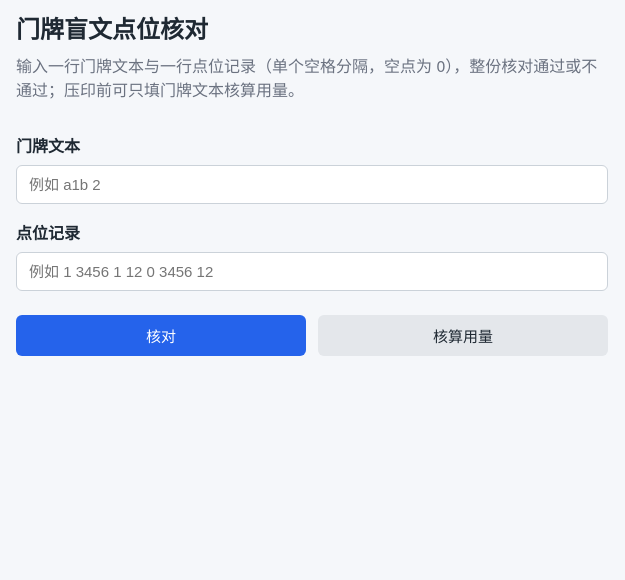
Test: App 核算用量 › 完成用量核算后仍可按原方式提交点位记录并得到通过或不通过
Type "a1b 2" into the field with test id "text-input" at (312, 184), box x1=16 y1=165 x2=608 y2=204
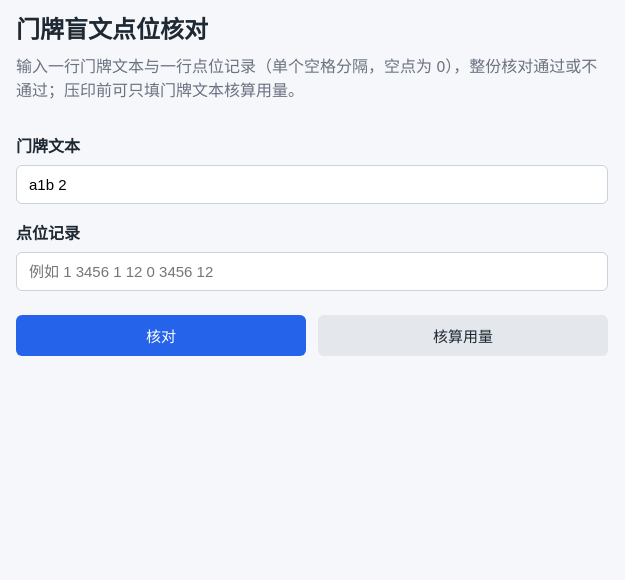
Click the button with test id "usage-submit" at (463, 336), box x1=318 y1=315 x2=608 y2=356
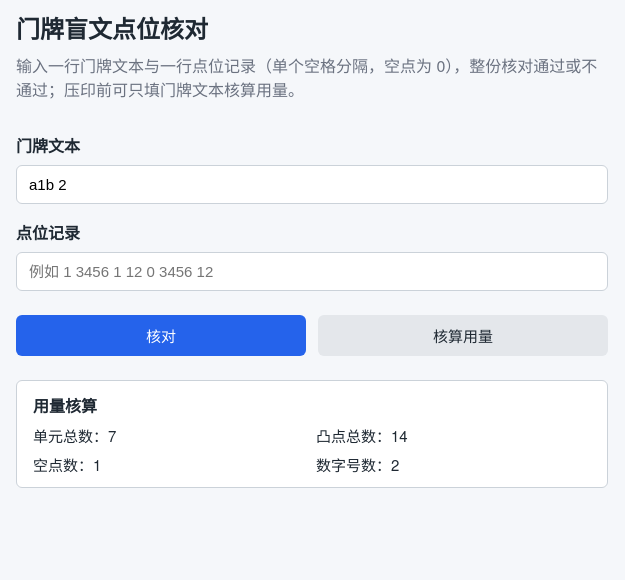
Now the element with test id "usage" is shown, box x1=16 y1=380 x2=608 y2=488
Type "1 3456 1 12 0 3456 12" into the field with test id "cells-input" at (312, 272), box x1=16 y1=252 x2=608 y2=291
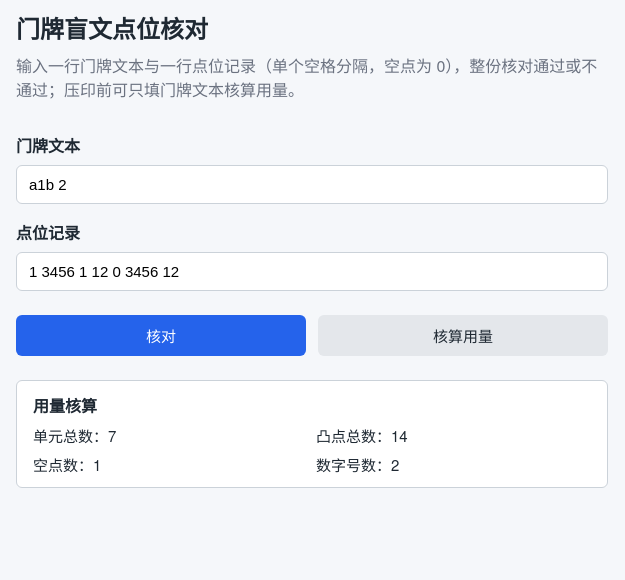
Submit the form from the button with test id "submit", box x1=16 y1=315 x2=306 y2=356
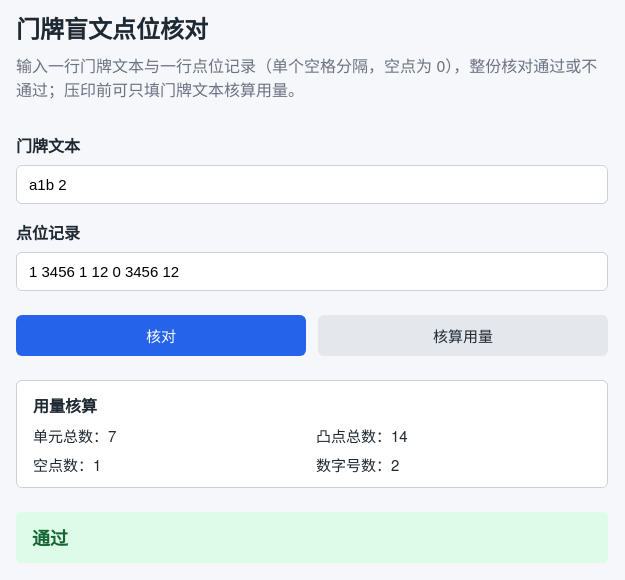
Now the message with test id "verdict" reads "通过", box x1=32 y1=525 x2=68 y2=551
Replace the text in the field with test id "cells-input" with "1 3456 1 12 0 3456 1" at (312, 272), box x1=16 y1=252 x2=608 y2=291
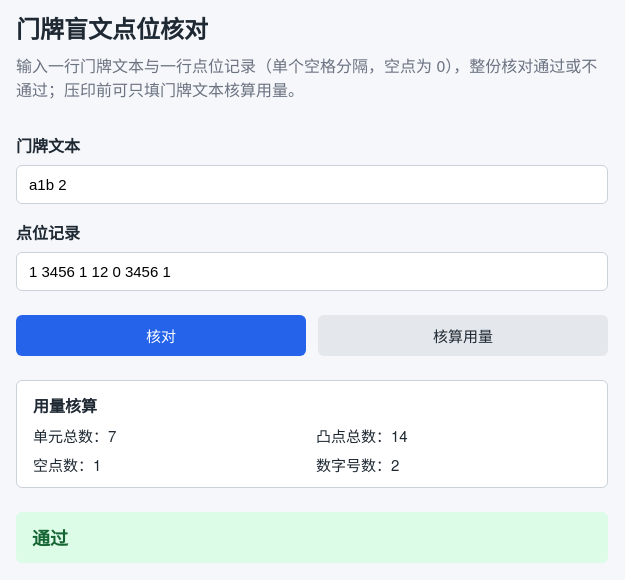
Submit the form from the button with test id "submit", box x1=16 y1=315 x2=306 y2=356
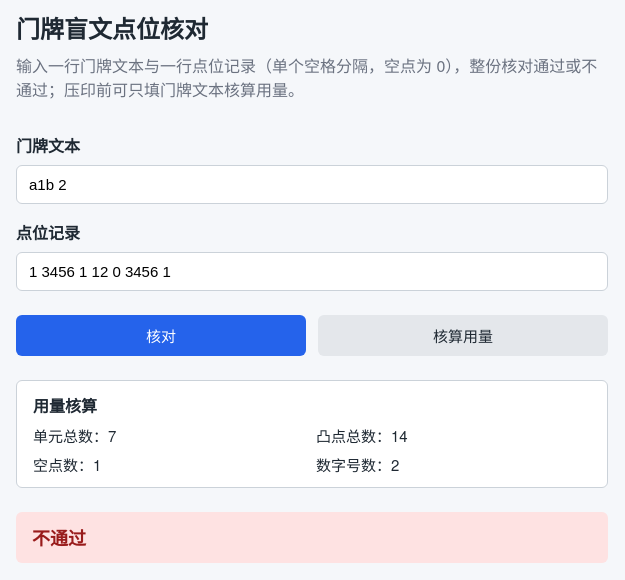
Now the message with test id "verdict" reads "不通过", box x1=32 y1=525 x2=86 y2=551
